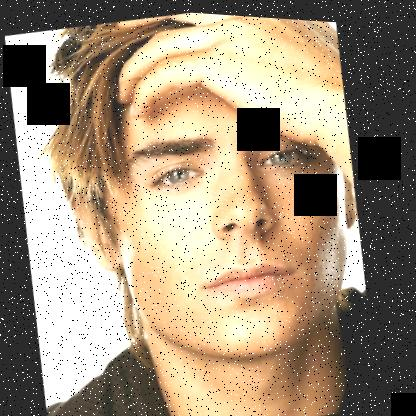Male: (32, 3, 395, 389)
